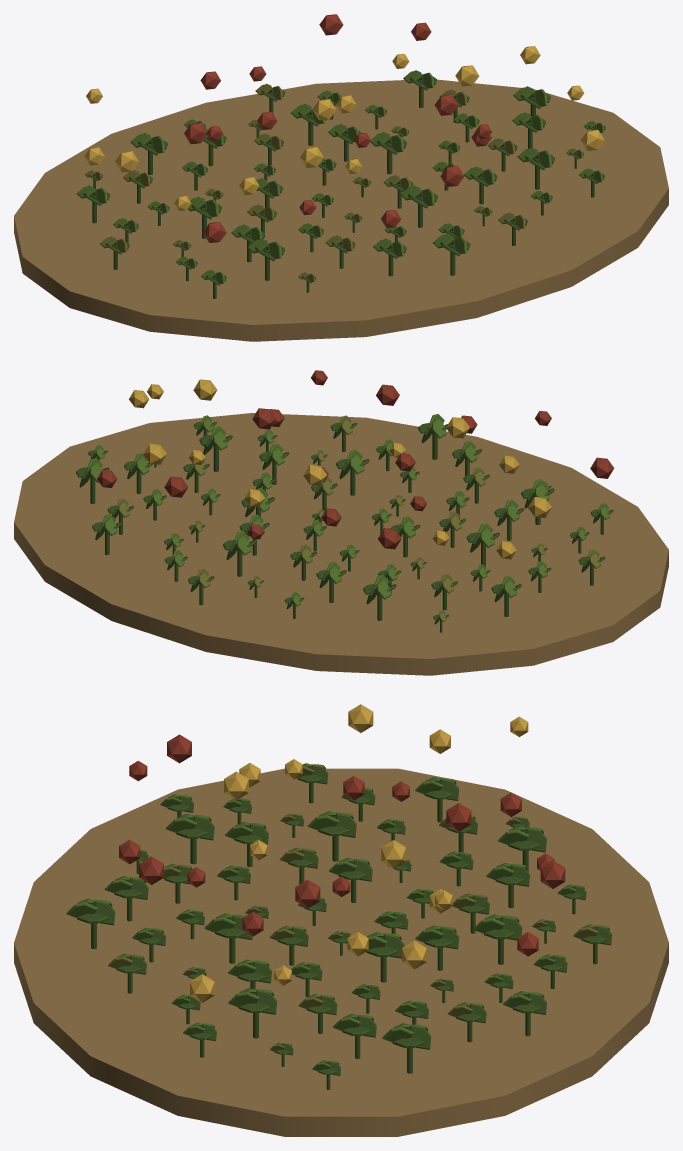
The model's file is wildflower-meadow.glb.
The picture shows the model from 3 angles, top to bottom: view 1: azimuth 30°, elevation 25°; view 2: azimuth 150°, elevation 25°; view 3: azimuth 270°, elevation 25°; orthographic projection. The views are drawn at different scales.
Parts seen in each view (by area): view 1: wildflower-meadow-farm-dirt, wildflower-meadow-farm-leaf-dark, wildflower-meadow-farm-leaf, wildflower-meadow-farm-barn-red, wildflower-meadow-farm-gold, wildflower-meadow-farm-grass; view 2: wildflower-meadow-farm-dirt, wildflower-meadow-farm-leaf-dark, wildflower-meadow-farm-leaf, wildflower-meadow-farm-barn-red, wildflower-meadow-farm-gold, wildflower-meadow-farm-grass; view 3: wildflower-meadow-farm-dirt, wildflower-meadow-farm-leaf-dark, wildflower-meadow-farm-leaf, wildflower-meadow-farm-barn-red, wildflower-meadow-farm-gold, wildflower-meadow-farm-grass.
Boxes of the visible parts, x1,y1,x2,y2 form: wildflower-meadow-farm-dirt: [14, 79, 668, 341]; wildflower-meadow-farm-leaf-dark: [83, 70, 605, 298]; wildflower-meadow-farm-leaf: [76, 70, 603, 283]; wildflower-meadow-farm-barn-red: [184, 14, 492, 242]; wildflower-meadow-farm-gold: [84, 46, 604, 210]; wildflower-meadow-farm-grass: [85, 84, 582, 282]; wildflower-meadow-farm-dirt: [14, 413, 668, 675]; wildflower-meadow-farm-leaf-dark: [76, 419, 613, 632]; wildflower-meadow-farm-leaf: [87, 414, 610, 606]; wildflower-meadow-farm-barn-red: [97, 370, 614, 549]; wildflower-meadow-farm-gold: [129, 379, 551, 559]; wildflower-meadow-farm-grass: [116, 415, 601, 622]; wildflower-meadow-farm-dirt: [14, 768, 668, 1136]; wildflower-meadow-farm-leaf-dark: [77, 763, 612, 1089]; wildflower-meadow-farm-leaf: [66, 778, 584, 1071]; wildflower-meadow-farm-barn-red: [119, 734, 565, 956]; wildflower-meadow-farm-gold: [190, 704, 528, 1002]; wildflower-meadow-farm-grass: [108, 764, 609, 1051].
Size of the model in its own units: 5.91 by 1.15 by 4.7.
